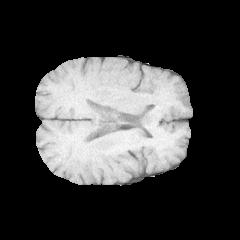glioma: (124, 92, 171, 123)
